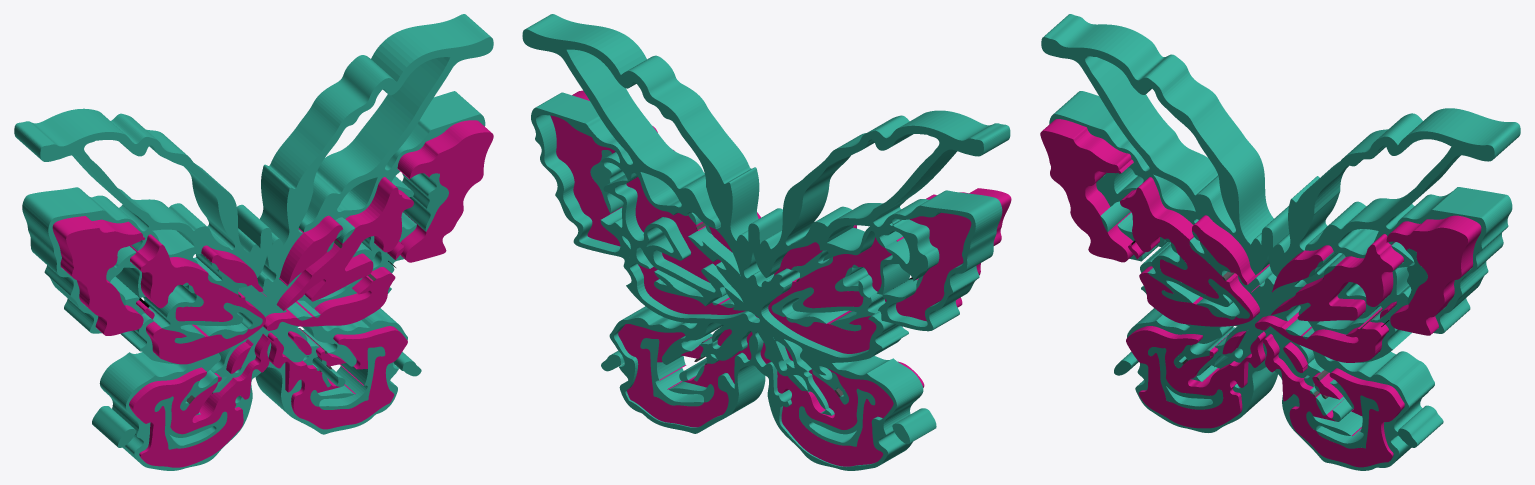
The model's file is butterfly-transformed.glb.
The picture shows the model from 3 angles, left to right: view 1: azimuth 30°, elevation 25°; view 2: azimuth 150°, elevation 25°; view 3: azimuth 330°, elevation 25°; orthographic projection.
Parts seen in each view (by area): view 1: Curve.033; view 2: Curve.033; view 3: Curve.033.
Part boxes in pixels (bbox=[...]): Curve.033: bbox=[14, 14, 493, 470]; Curve.033: bbox=[522, 14, 1011, 470]; Curve.033: bbox=[1040, 14, 1520, 470].
Bounding box in the file's own units: 0.2778 × 0.2118 × 0.0421.
